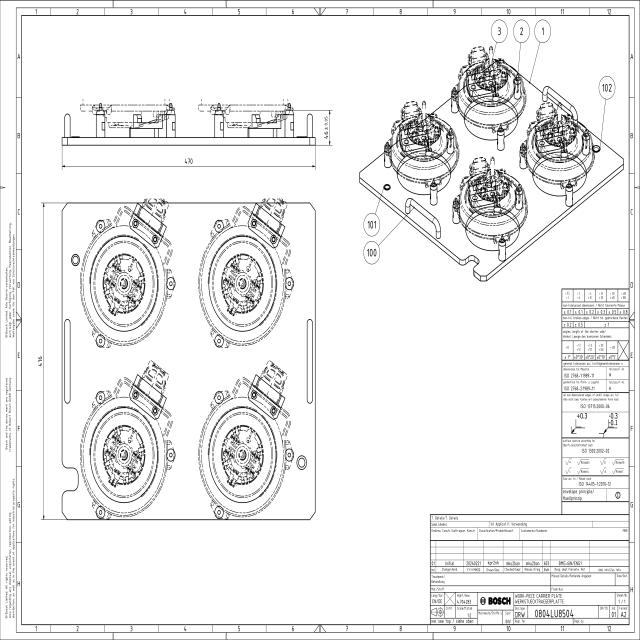dimension: (324, 113, 329, 140), (183, 156, 194, 165), (37, 355, 43, 368)
